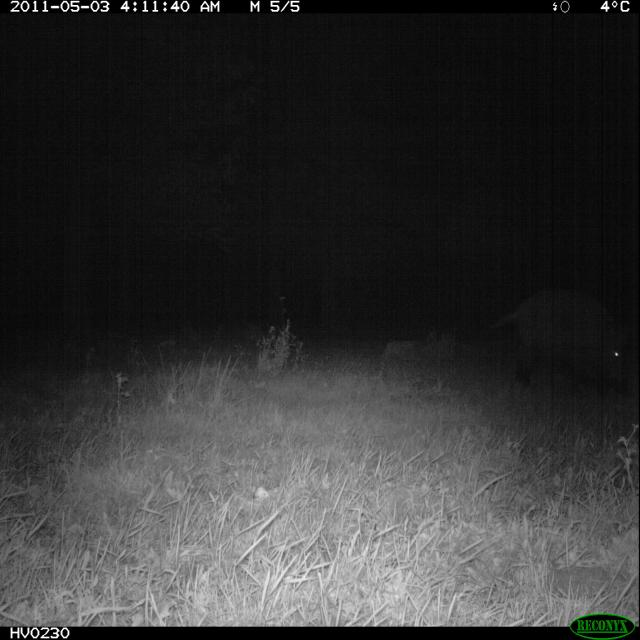boar: (483, 262, 632, 446)
